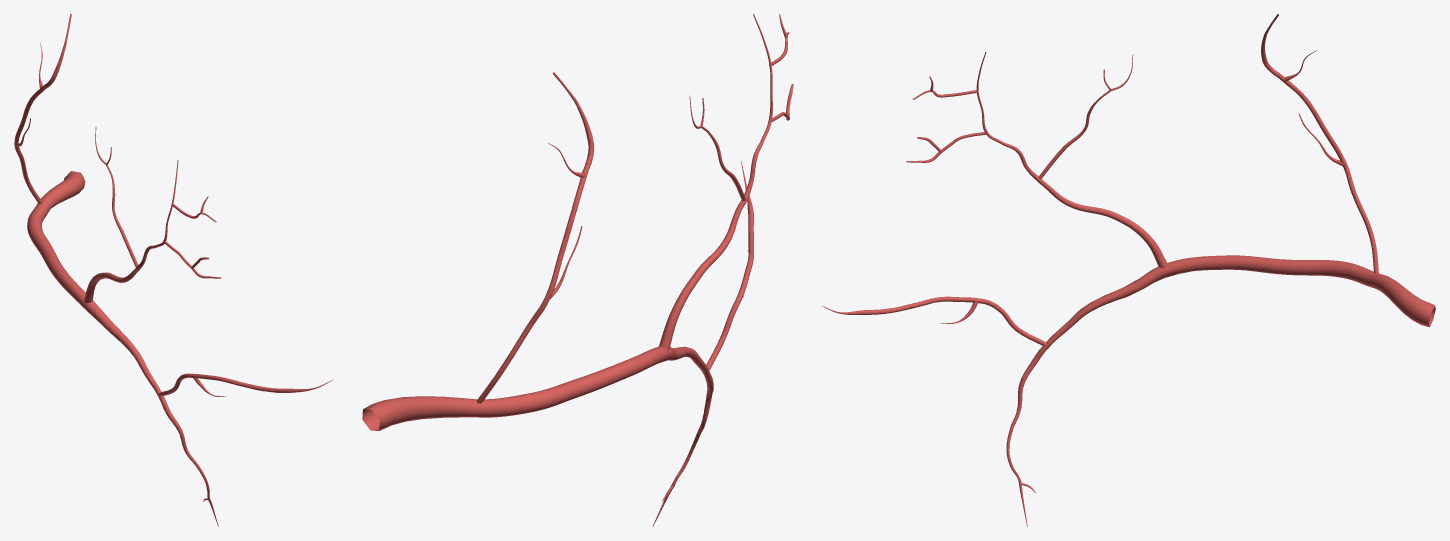
The picture shows the model from 3 angles, left to right: view 1: azimuth 30°, elevation 25°; view 2: azimuth 150°, elevation 25°; view 3: azimuth 270°, elevation 25°; orthographic projection. The views are drawn at different scales.
Parts seen in each view (by area): view 1: 右侧颞浅动脉; view 2: 右侧颞浅动脉; view 3: 右侧颞浅动脉.
Part boxes in pixels (x1=…): 右侧颞浅动脉: x1=14, y1=14, x2=333, y2=526; 右侧颞浅动脉: x1=362, y1=14, x2=793, y2=526; 右侧颞浅动脉: x1=822, y1=14, x2=1435, y2=526.
Size of the model in its own units: 0.0487 by 0.1641 by 0.185.
